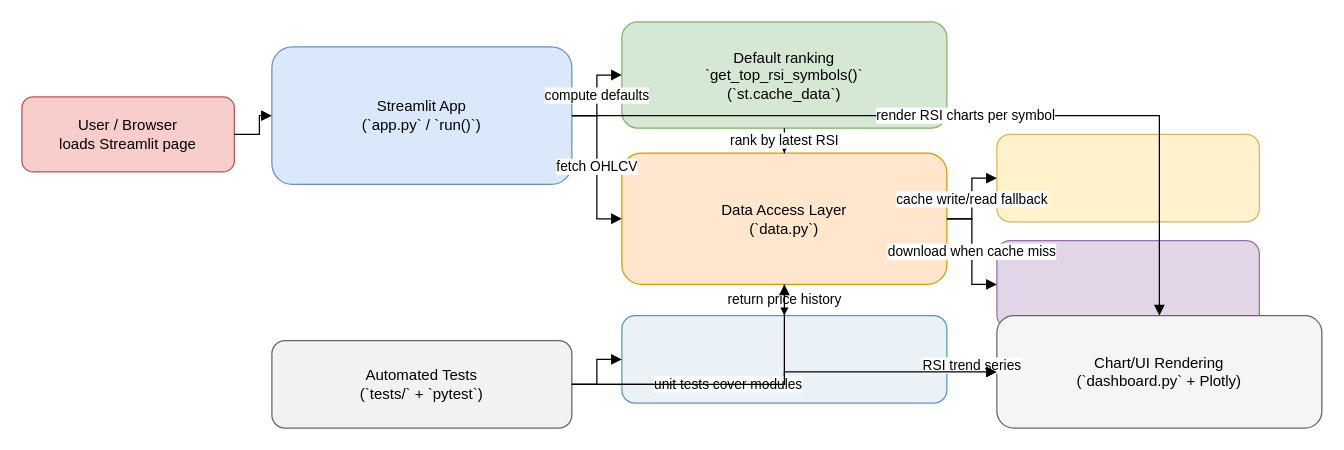
This 1344x450 diagram has some shape labels left out. The box of each missing label's shape, as (x1, y1, x2, y2) in pixels:
External Price Source `yfinance` download: (996, 239, 1259, 328)
Indicator Logic `calculate_rsi()`: (621, 314, 947, 403)
Local Cache SQLite (`market_data.db`): (996, 133, 1259, 222)
